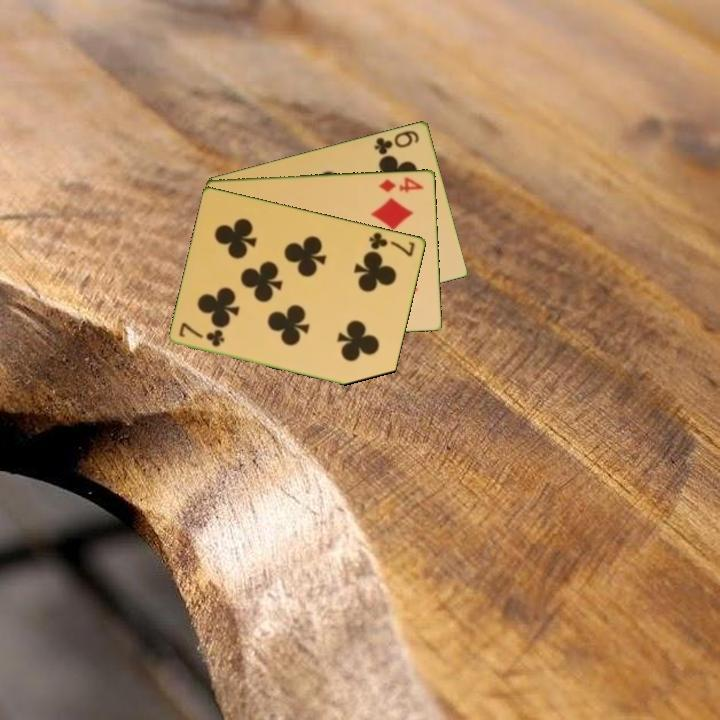4d: (376, 173, 427, 195)
6c: (371, 126, 422, 157)
7c: (366, 228, 418, 259), (176, 319, 228, 350)
